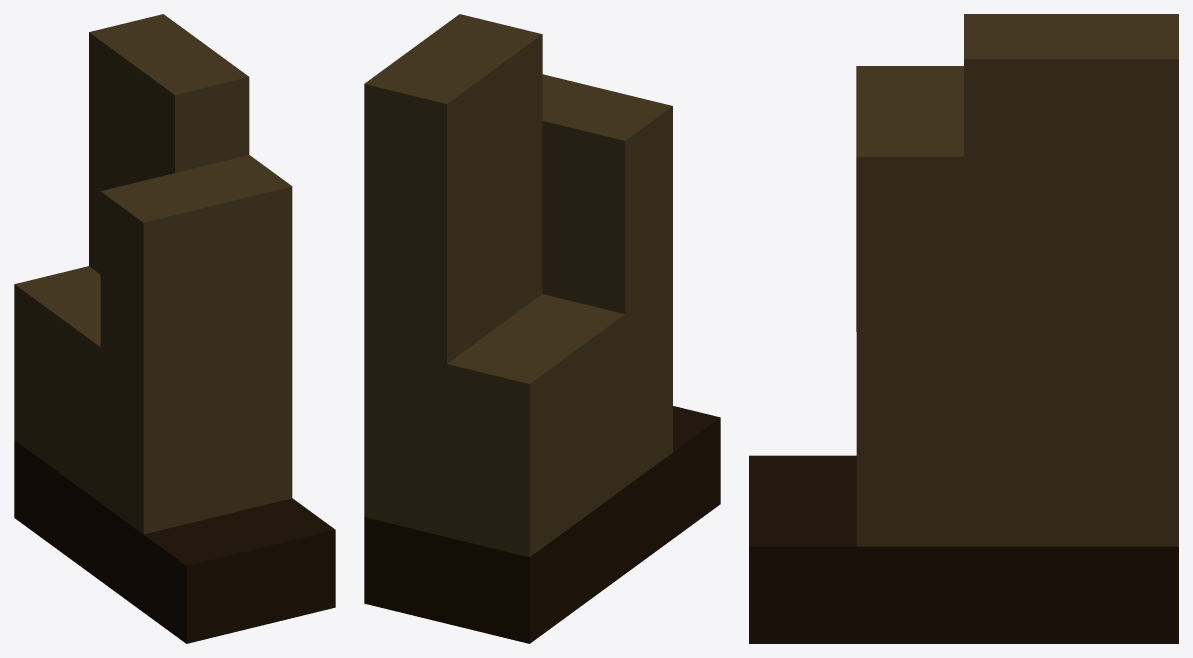
The model's file is Bear_fronlegR.fbx.
3 views of the same model, side by side, from view 1: azimuth 30°, elevation 25°; view 2: azimuth 150°, elevation 25°; view 3: azimuth 270°, elevation 25° (orthographic). The views are drawn at different scales.
Visible parts, largest first — view 1: FLegR; view 2: FLegR; view 3: FLegR.
Part boxes in pixels (box(x1,y1,x2,y2)): FLegR: box(14, 14, 335, 643); FLegR: box(364, 14, 720, 643); FLegR: box(749, 14, 1178, 643).
Bounding box in the file's own units: 20 × 60 × 40.
